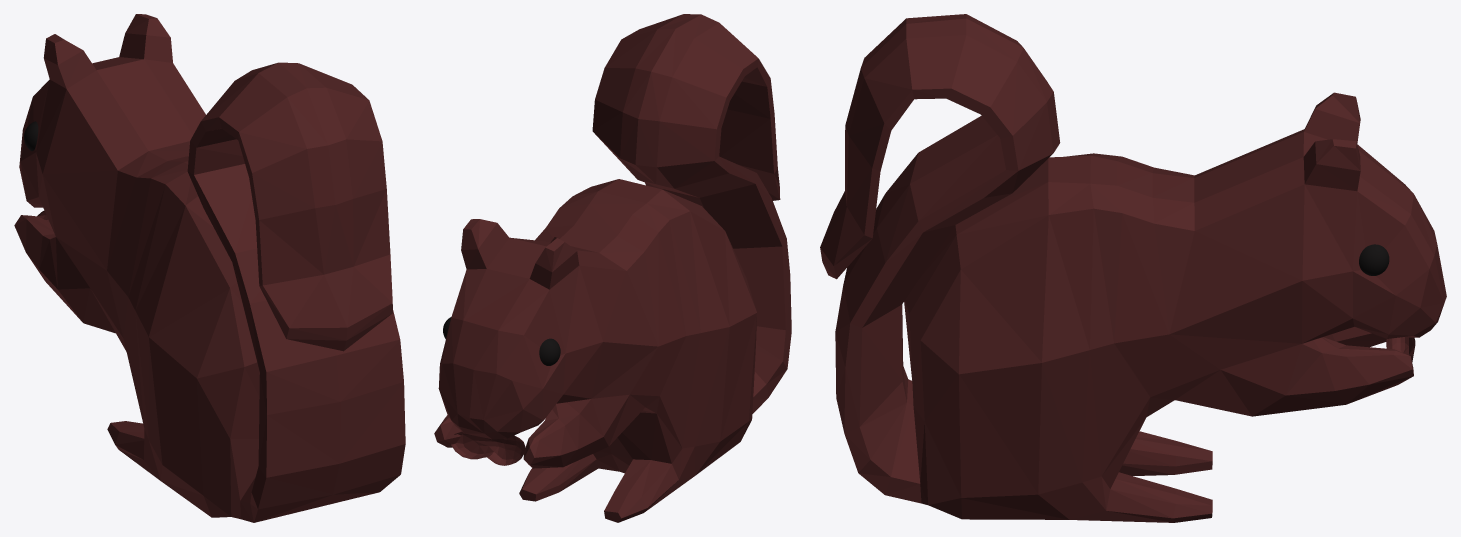
The model's file is Squirrel.glb.
3 views of the same model, side by side, from view 1: azimuth 30°, elevation 25°; view 2: azimuth 150°, elevation 25°; view 3: azimuth 270°, elevation 25° (orthographic). The views are drawn at different scales.
Visible parts, largest first — view 1: Plane_0; view 2: Plane_0, Plane_3, Plane_1; view 3: Plane_0, Plane_1.
Part boxes in pixels (x1,y1,x2,y2): Plane_0: (14,14,405,522); Plane_0: (434,14,791,522); Plane_3: (451,431,525,465); Plane_1: (443,317,560,365); Plane_0: (820,14,1446,522); Plane_1: (1359,244,1389,275).
Size of the model in its own units: 2.46 by 5.52 by 6.64.
